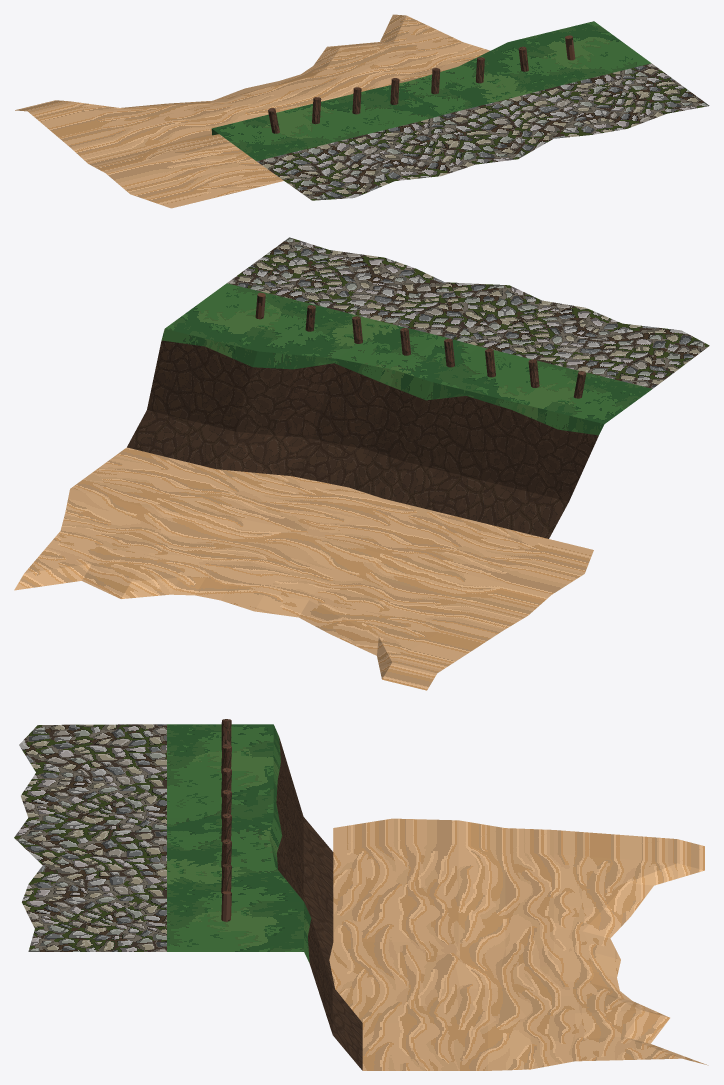
The model's file is beach.glb.
3 views of the same model, one above another, from view 1: azimuth 30°, elevation 25°; view 2: azimuth 150°, elevation 25°; view 3: azimuth 270°, elevation 25° (orthographic). The views are drawn at different scales.
Visible parts, largest first — view 1: Plane, Cylinder; view 2: Plane, Cylinder; view 3: Plane, Cylinder.
Part boxes in pixels (left/top/right/bottom): Plane: left=15, top=14, right=709, bottom=208; Cylinder: left=268, top=35, right=575, bottom=133; Plane: left=14, top=237, right=709, bottom=690; Cylinder: left=255, top=292, right=586, bottom=398; Plane: left=14, top=724, right=708, bottom=1070; Cylinder: left=221, top=719, right=231, bottom=921.
Size of the model in its own units: 24.8 by 7.28 by 28.71.
5 materials, 5 textured.
